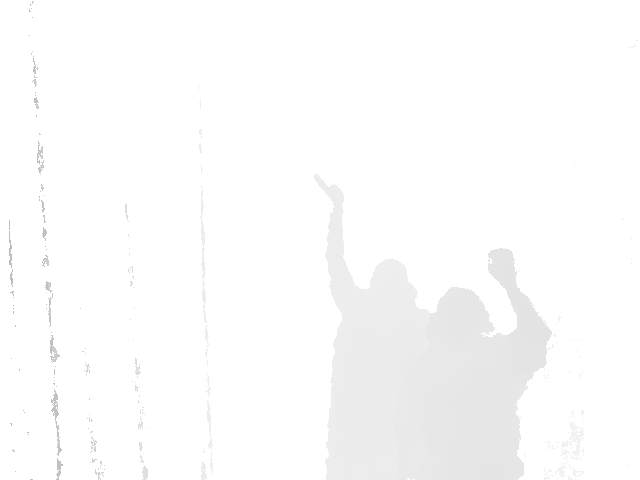hand: (486, 248, 517, 282), (313, 174, 344, 206)
head: (432, 289, 490, 340), (368, 260, 408, 307)
person: (313, 174, 434, 480), (393, 248, 552, 480)
